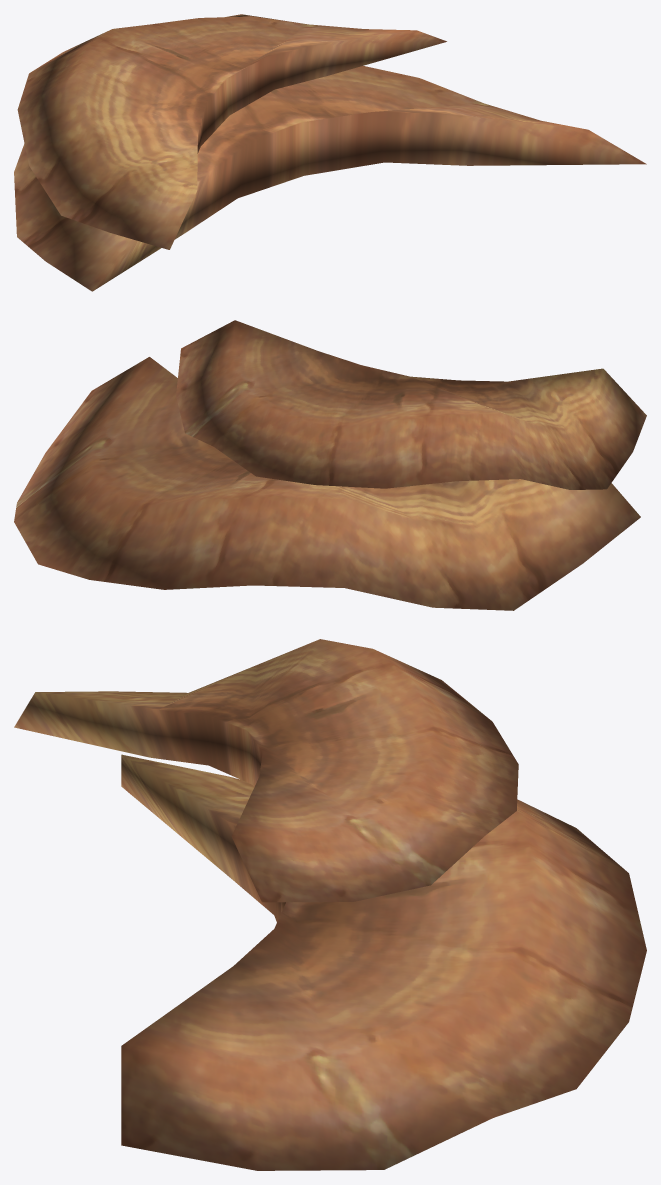
File: mushroom06.fbx
3 renders of one model, top to bottom at view 1: azimuth 30°, elevation 25°; view 2: azimuth 150°, elevation 25°; view 3: azimuth 270°, elevation 25°, orthographic. The views are drawn at different scales.
Parts seen in each view (by area): view 1: mushroom06; view 2: mushroom06; view 3: mushroom06.
Boxes of the visible parts, x1,y1,x2,y2 form: mushroom06: (14, 14, 646, 291); mushroom06: (14, 320, 646, 610); mushroom06: (14, 639, 646, 1170).
Bounding box in the file's own units: 163 × 53.93 × 125.
